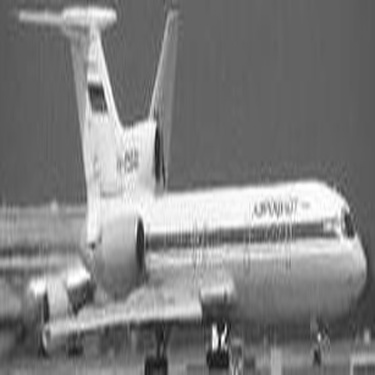airplane: (12, 2, 365, 364)
